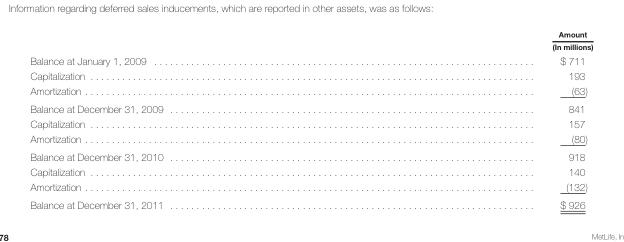table: (29, 28, 592, 210)
table column: (29, 28, 357, 210), (357, 28, 592, 210)
table column header: (29, 28, 592, 52)
table row: (29, 28, 592, 52), (29, 99, 592, 116), (29, 147, 592, 164), (29, 52, 592, 68), (29, 83, 592, 99), (29, 131, 592, 147), (29, 179, 592, 195), (29, 68, 592, 83), (29, 116, 592, 131), (29, 164, 592, 179), (29, 195, 592, 210)
